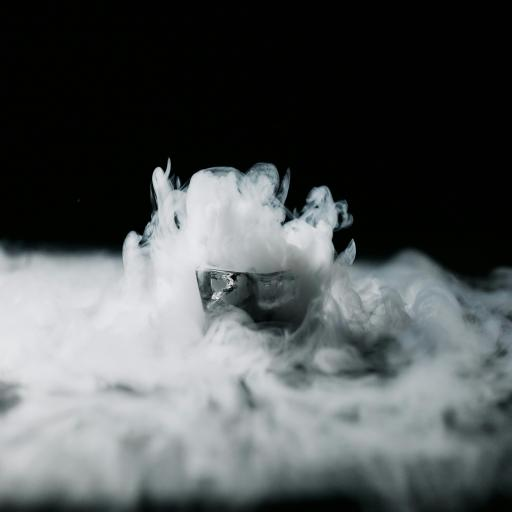smoke: (0, 136, 512, 512)
